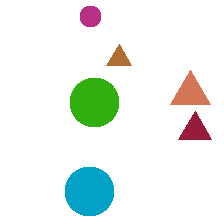circle: (70, 78, 118, 126), (65, 167, 113, 215), (80, 6, 100, 26)
triangle: (170, 70, 210, 104), (178, 111, 211, 139), (106, 44, 131, 65)
